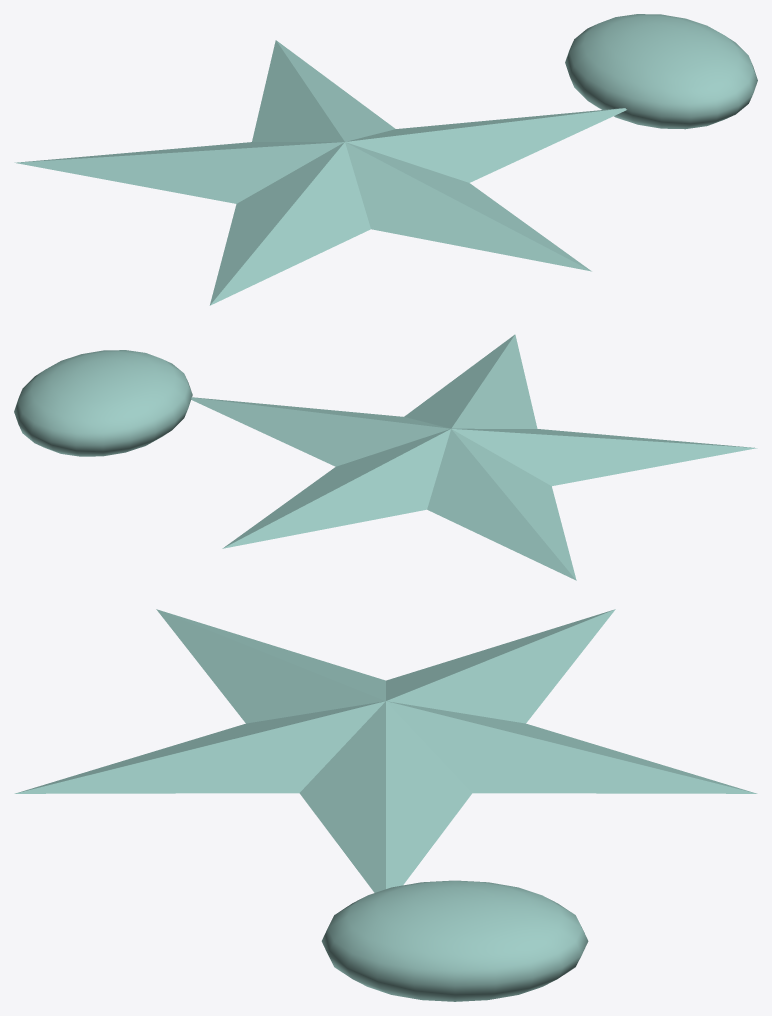
3 views of the same model, one above another, from view 1: azimuth 30°, elevation 25°; view 2: azimuth 150°, elevation 25°; view 3: azimuth 270°, elevation 25° (orthographic). The views are drawn at different scales.
Visible parts, largest first — view 1: Starfish, Small shell; view 2: Starfish, Small shell; view 3: Starfish, Small shell.
Part boxes in pixels (x1,y1,x2,y2): Starfish: [14, 40, 626, 305]; Small shell: [565, 14, 757, 129]; Starfish: [191, 334, 757, 580]; Small shell: [14, 350, 192, 456]; Starfish: [14, 609, 757, 892]; Small shell: [321, 880, 588, 1001].
Bounding box in the file's own units: 194 × 20 × 162.
